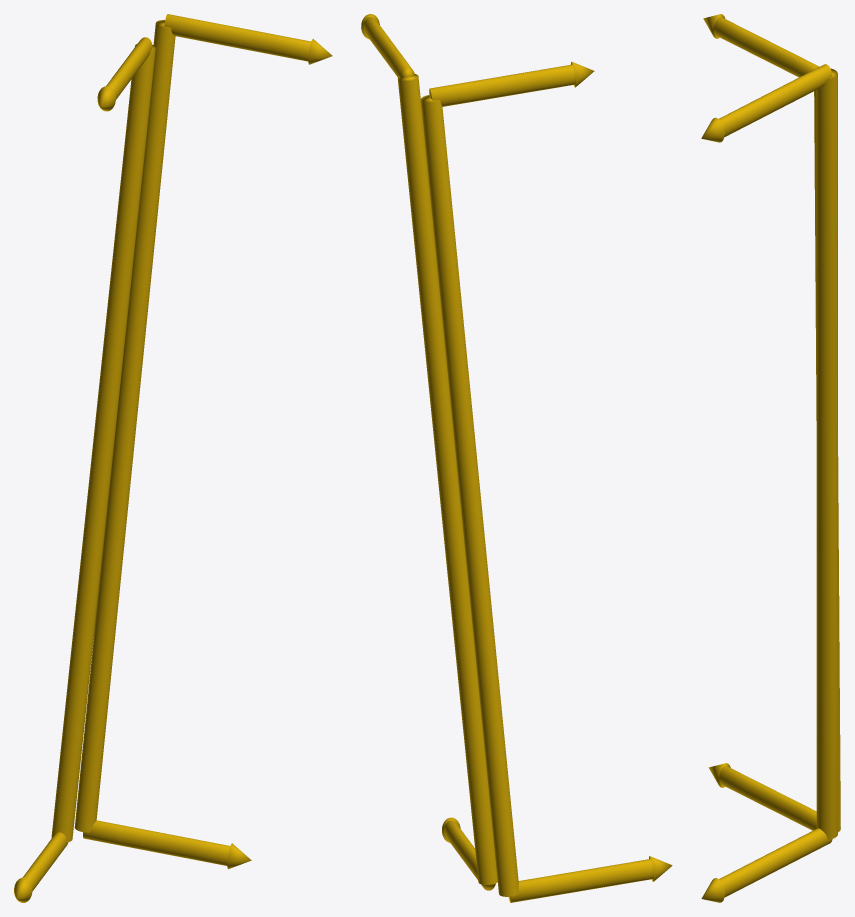
Rendered from trajectories_mesh.obj.
3 renders of one model, left to right at view 1: azimuth 30°, elevation 25°; view 2: azimuth 150°, elevation 25°; view 3: azimuth 270°, elevation 25°, orthographic. The views are drawn at different scales.
Bounding box in the file's own units: 0.1365 × 0.3419 × 0.0519.
